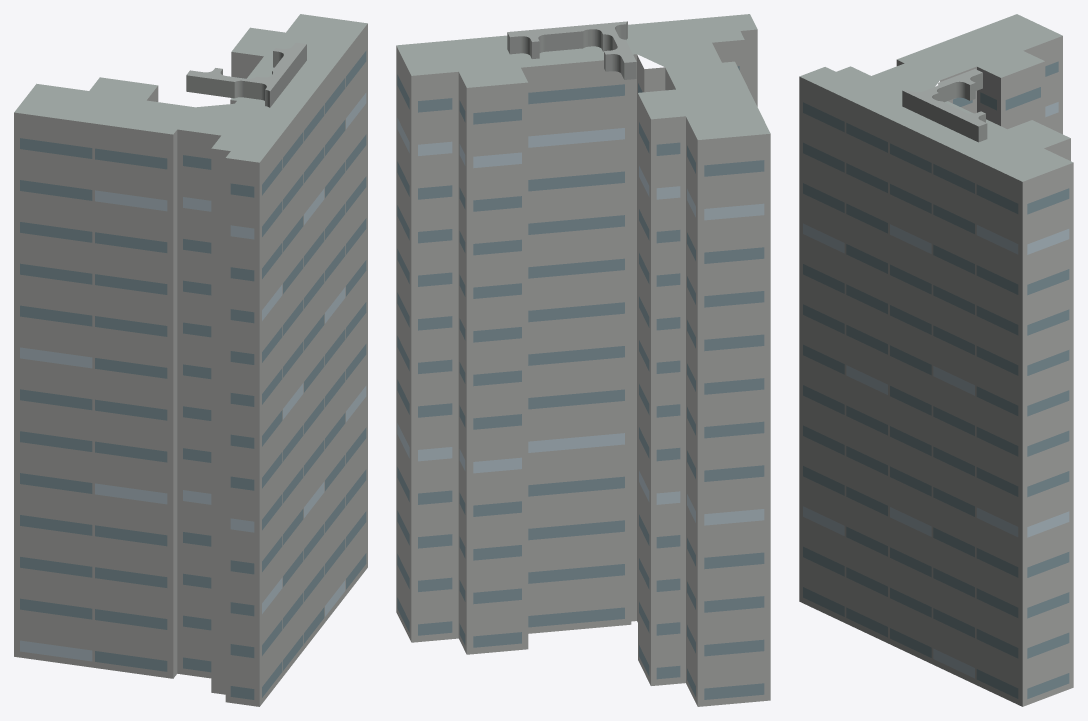
The model's file is fallback-gaepo-xi-presidence-424.glb.
The picture shows the model from 3 angles, left to right: view 1: azimuth 30°, elevation 25°; view 2: azimuth 150°, elevation 25°; view 3: azimuth 270°, elevation 25°; orthographic projection. The views are drawn at different scales.
Visible parts, largest first — view 1: fallback-gaepo-xi-presidence-424; view 2: fallback-gaepo-xi-presidence-424; view 3: fallback-gaepo-xi-presidence-424.
Part boxes in pixels (box(x1,y1,x2,y2)): fallback-gaepo-xi-presidence-424: box(14, 14, 367, 706); fallback-gaepo-xi-presidence-424: box(396, 14, 770, 706); fallback-gaepo-xi-presidence-424: box(799, 14, 1073, 706).
Bounding box in the file's own units: 54.39 × 81.7 × 37.56.
